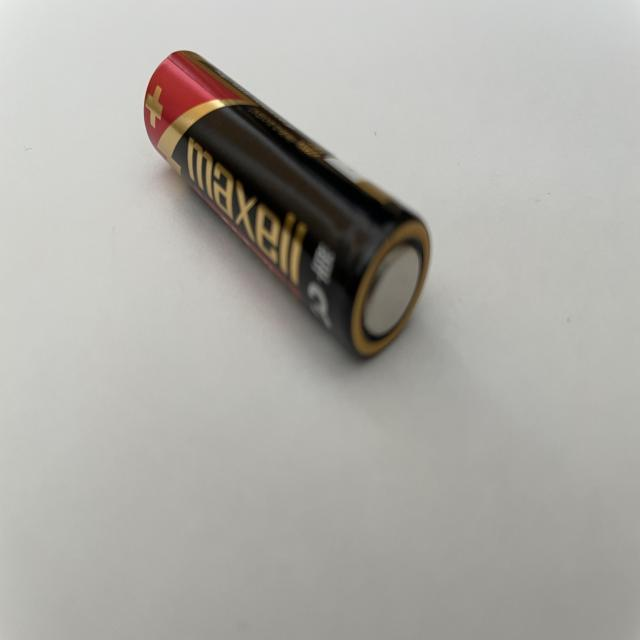hazardous waste: (142, 48, 432, 361)
